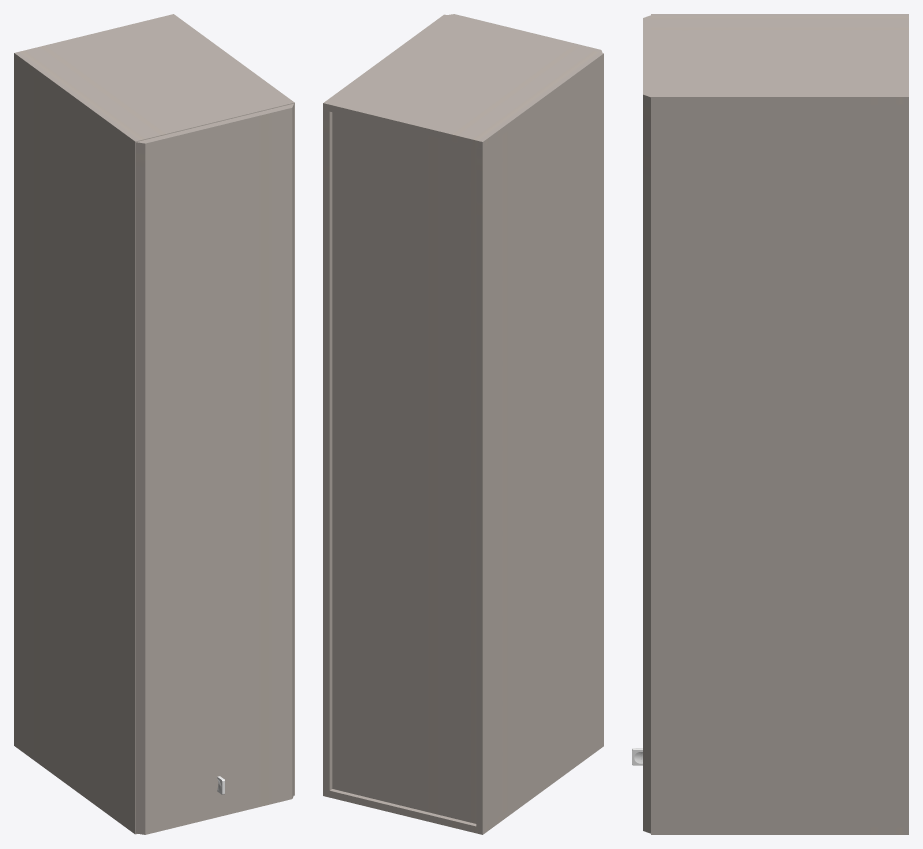
3 views of the same model, side by side, from view 1: azimuth 30°, elevation 25°; view 2: azimuth 150°, elevation 25°; view 3: azimuth 270°, elevation 25° (orthographic). The views are drawn at different scales.
Parts seen in each view (by area): view 1: Object_5.001, Object_13.001; view 2: Object_13.001, Object_5.001; view 3: Object_13.001, Object_5.001.
Boxes of the visible parts, <box> form: Object_5.001: <box>136,103,293,834</box>; Object_13.001: <box>14,14,294,834</box>; Object_13.001: <box>323,14,603,834</box>; Object_5.001: <box>447,14,602,52</box>; Object_13.001: <box>651,14,908,834</box>; Object_5.001: <box>643,15,650,833</box>.
Size of the model in its own units: 0.434 by 1.8 by 0.6121.
Materials: 2 (1 with a texture image).
